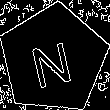N_N: (28, 30, 78, 88)
